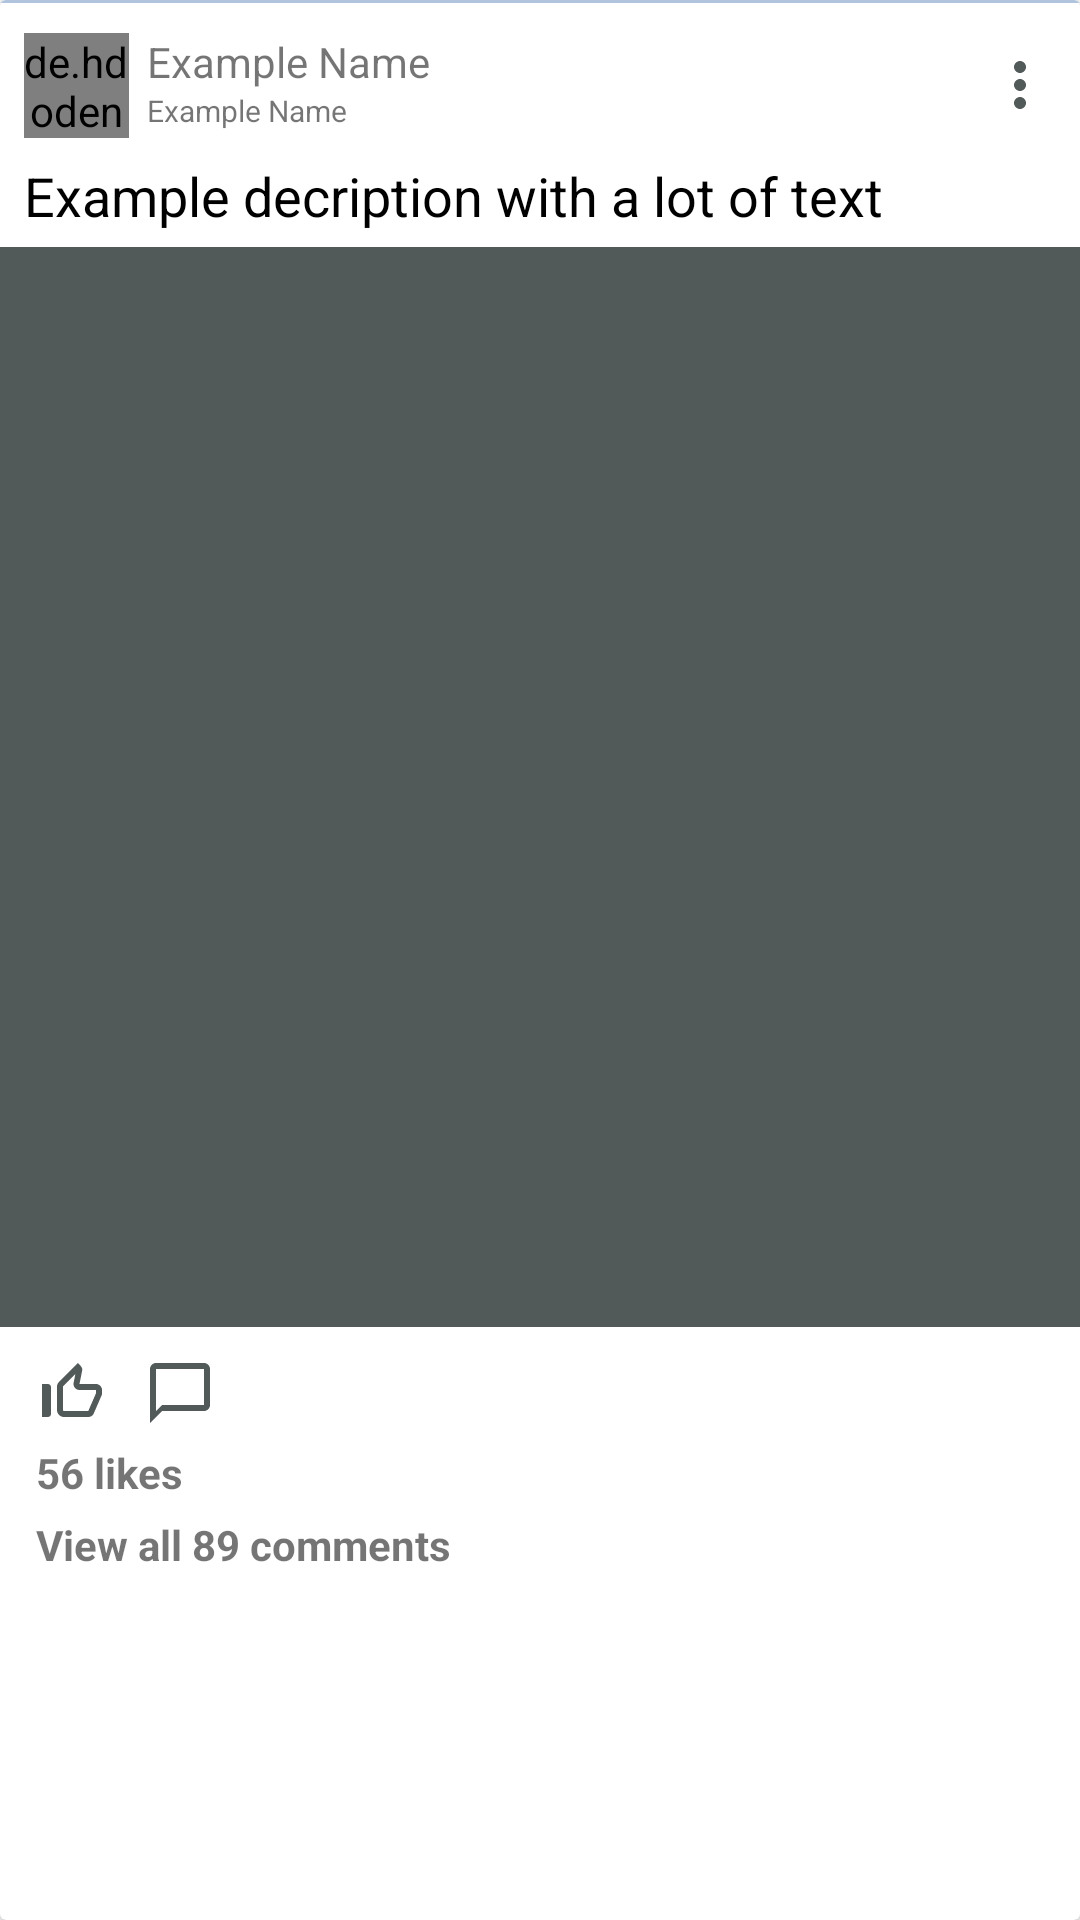

Icons on this 1080x1920 Android screen, each with its box as (x1, y1, x2, y2):
option: (1014, 61, 1026, 109)
thumb up off: (42, 1363, 102, 1417)
